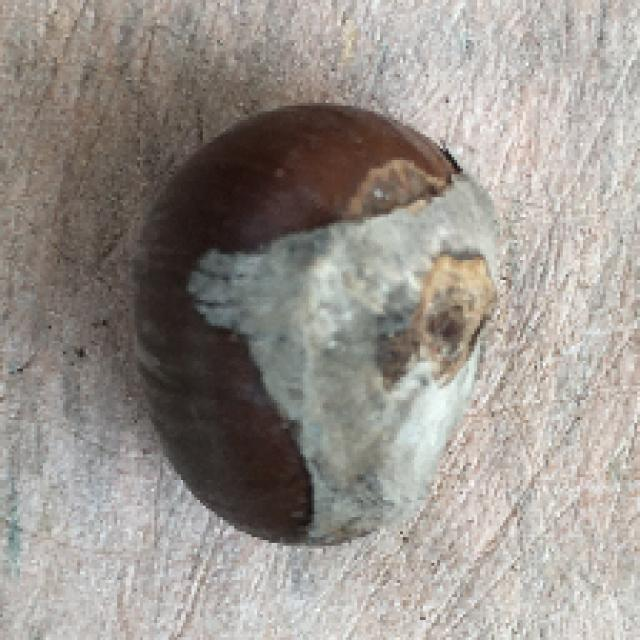damagedHazelnut: (128, 86, 519, 563)
